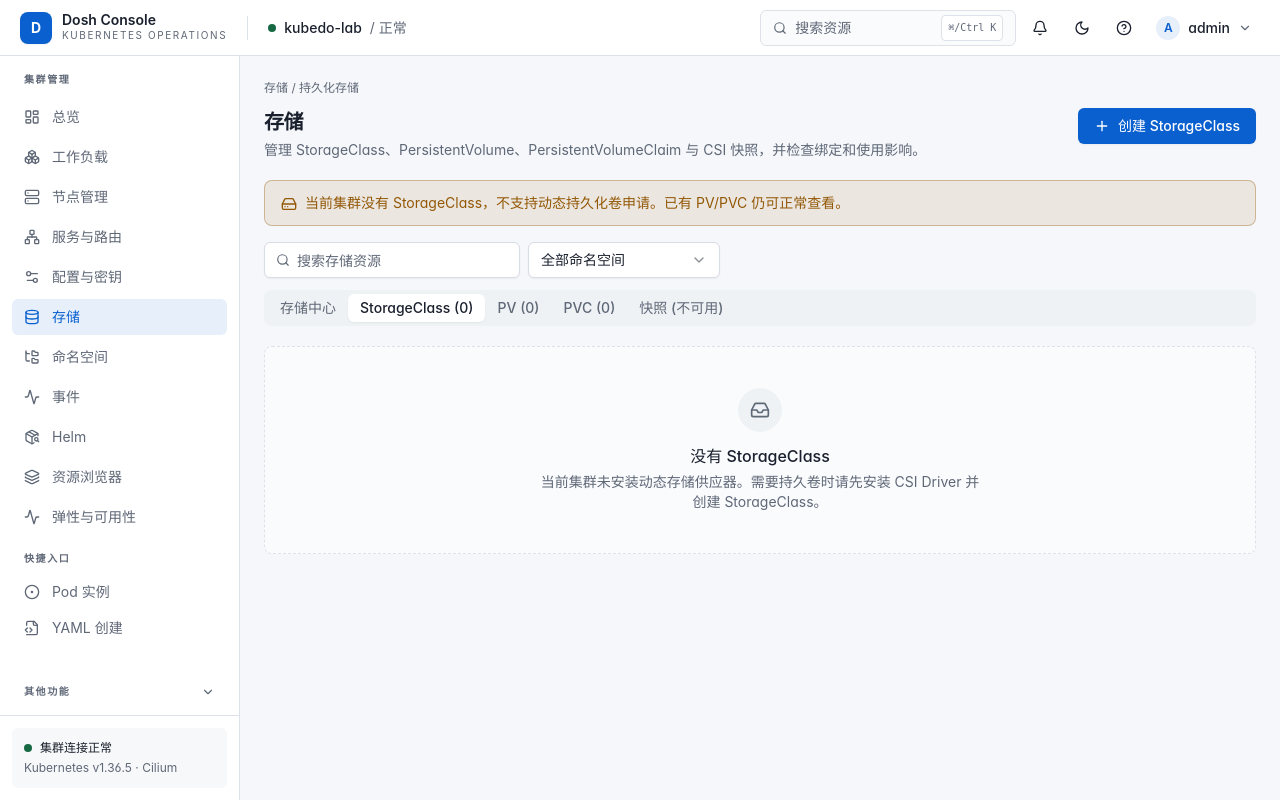
Test: dosh application › creates a StorageClass through the structured form with dry-run-backed API contract
Click the button "创建 StorageClass" at [1167, 126], box x1=1078 y1=108 x2=1256 y2=144
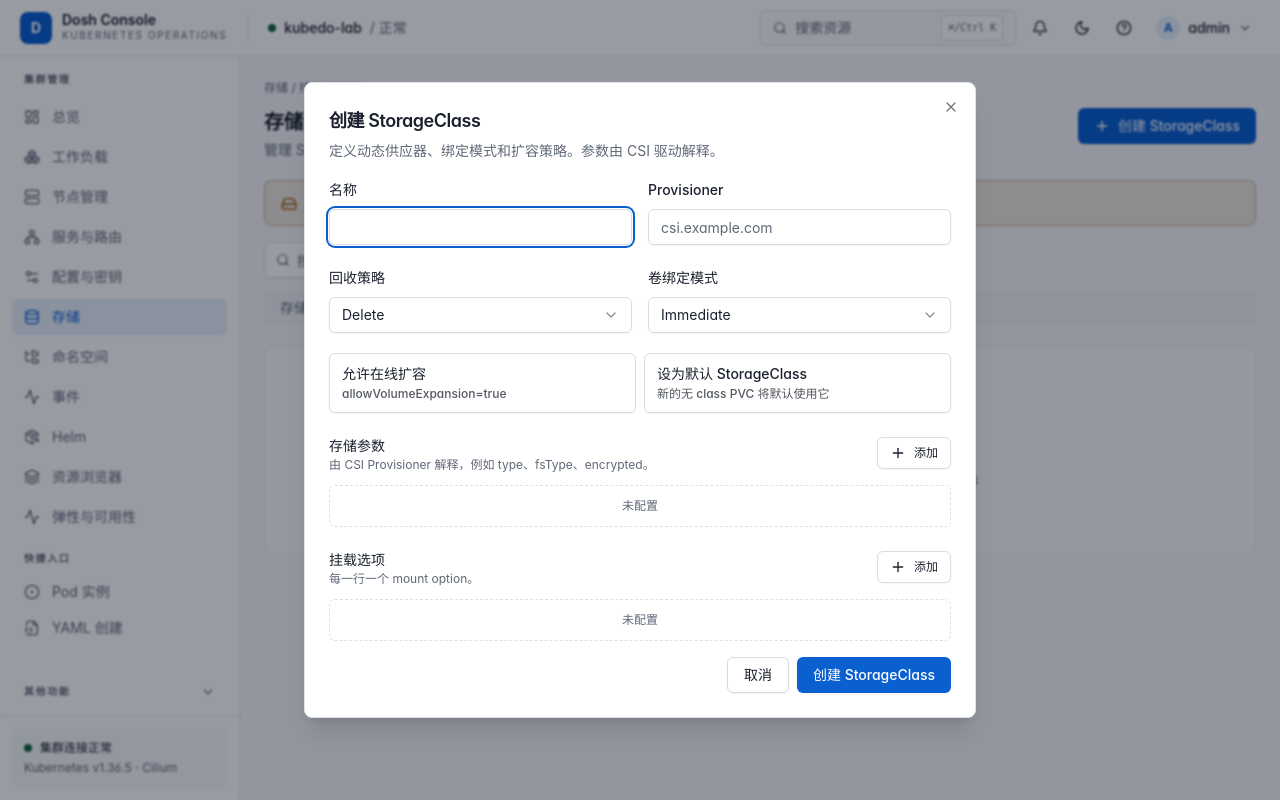
Type "fast-ssd" into the field labelled "名称" at [480, 227], box x1=329 y1=209 x2=632 y2=245
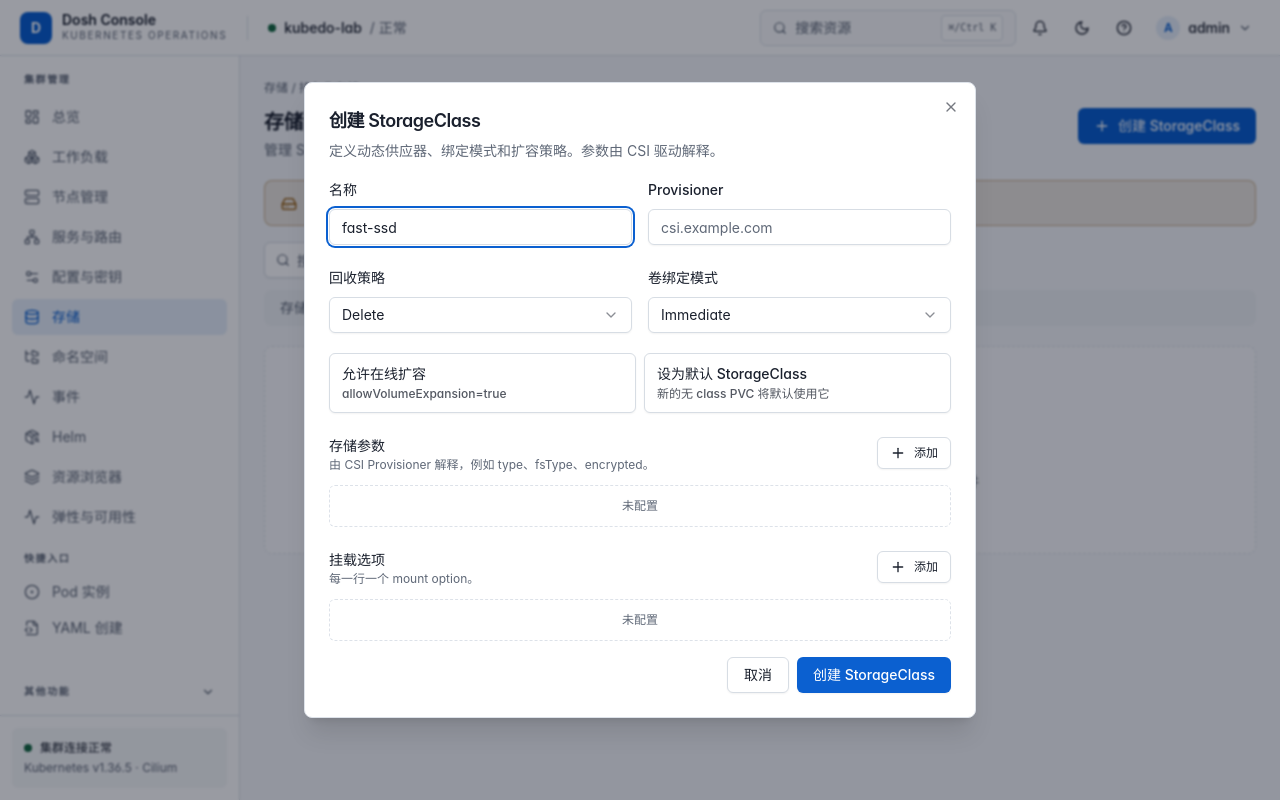
Type "csi.example.test" into the field labelled "Provisioner" at [800, 227], box x1=648 y1=209 x2=951 y2=245
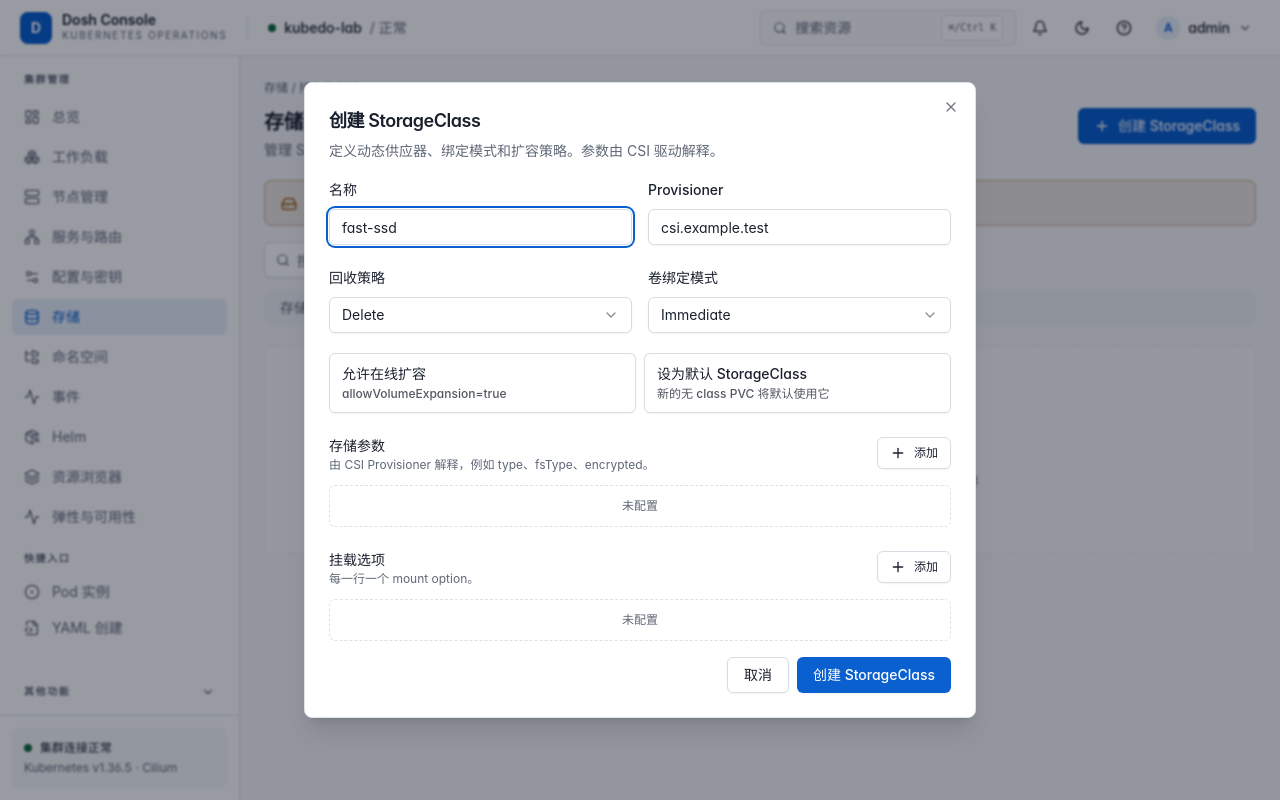
Click the button "允许在线扩容 allowVolumeExpansion=true" at [482, 383], box x1=329 y1=353 x2=636 y2=413
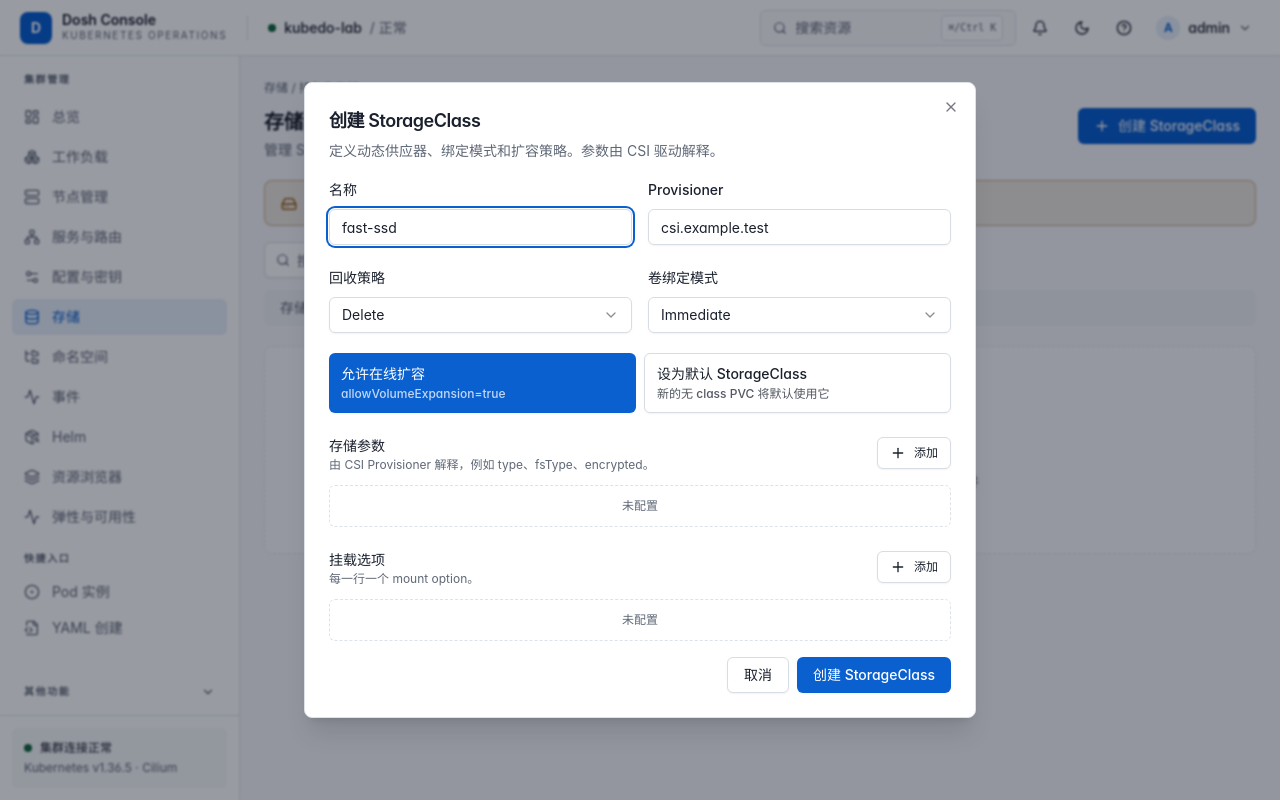
Click the button "创建 StorageClass" at [874, 675], box x1=797 y1=657 x2=951 y2=693
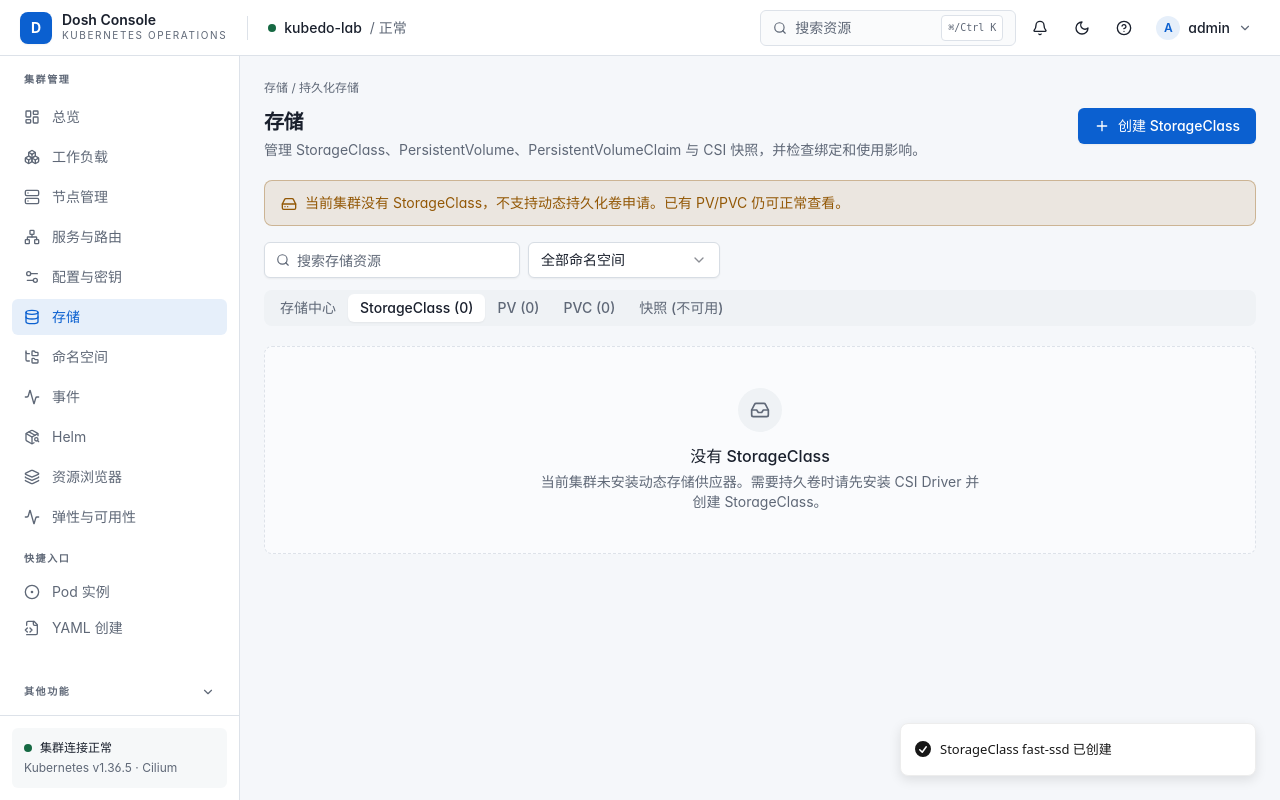
Result: the text "StorageClass fast-ssd 已创建" is shown at x1=940 y1=740 x2=1112 y2=759
